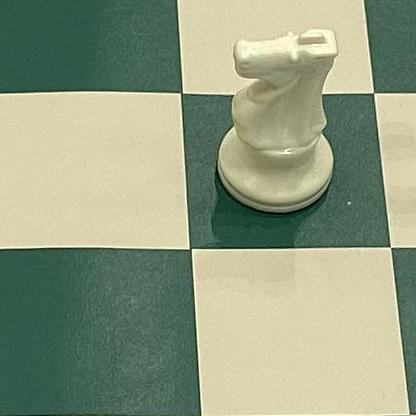white-knight: (213, 26, 340, 218)
